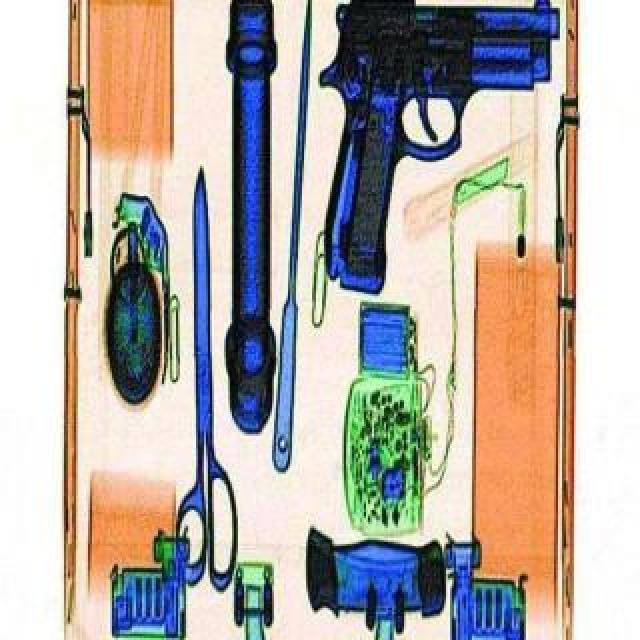gun: (318, 4, 564, 302)
knife: (172, 166, 240, 596)
